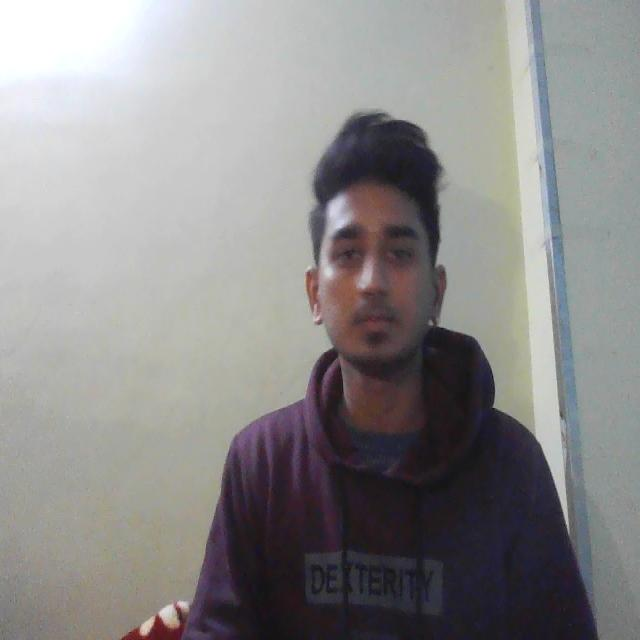real: (317, 131, 449, 380)
